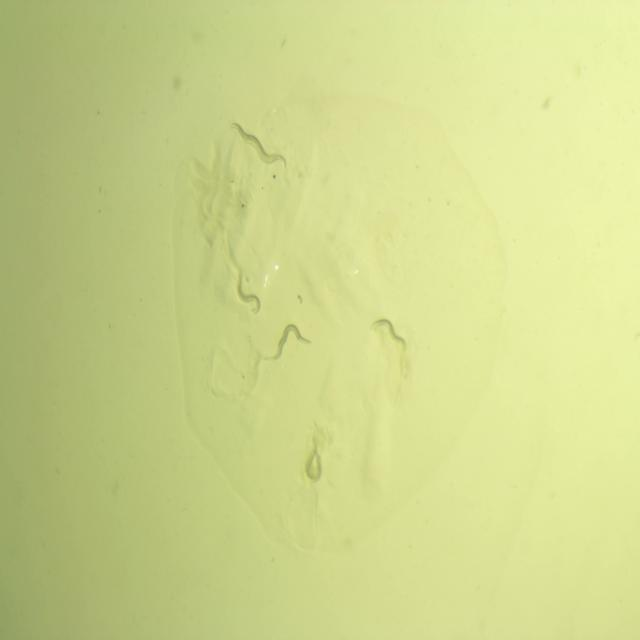worm: (226, 112, 281, 160), (262, 318, 314, 368), (238, 127, 290, 177), (367, 300, 410, 359), (233, 267, 266, 322), (302, 429, 328, 488)
